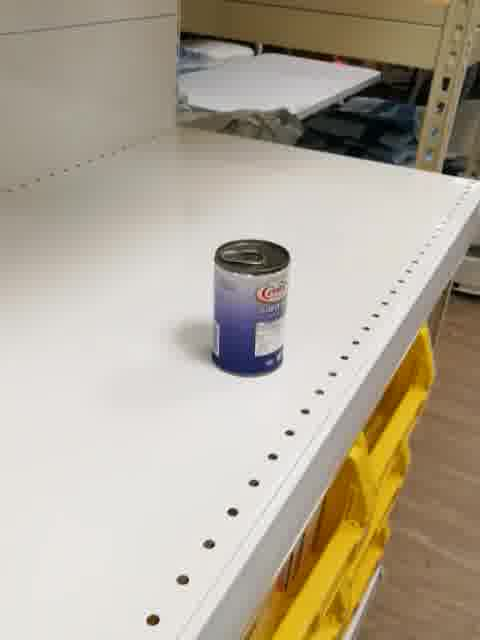sardine: (211, 237, 292, 378)
